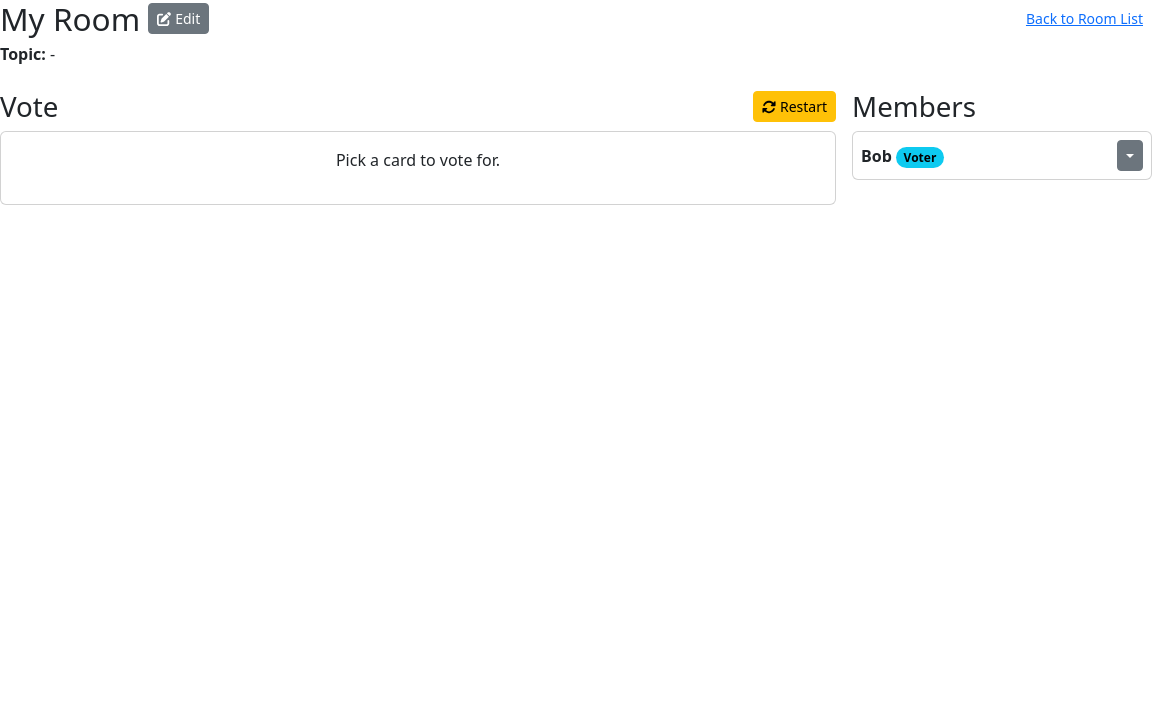
RoomView › opens edit modal
expect the text "Edit Room 'My Room'" is not shown: met
Click the button "Edit" at (179, 19), box x1=148 y1=3 x2=209 y2=34
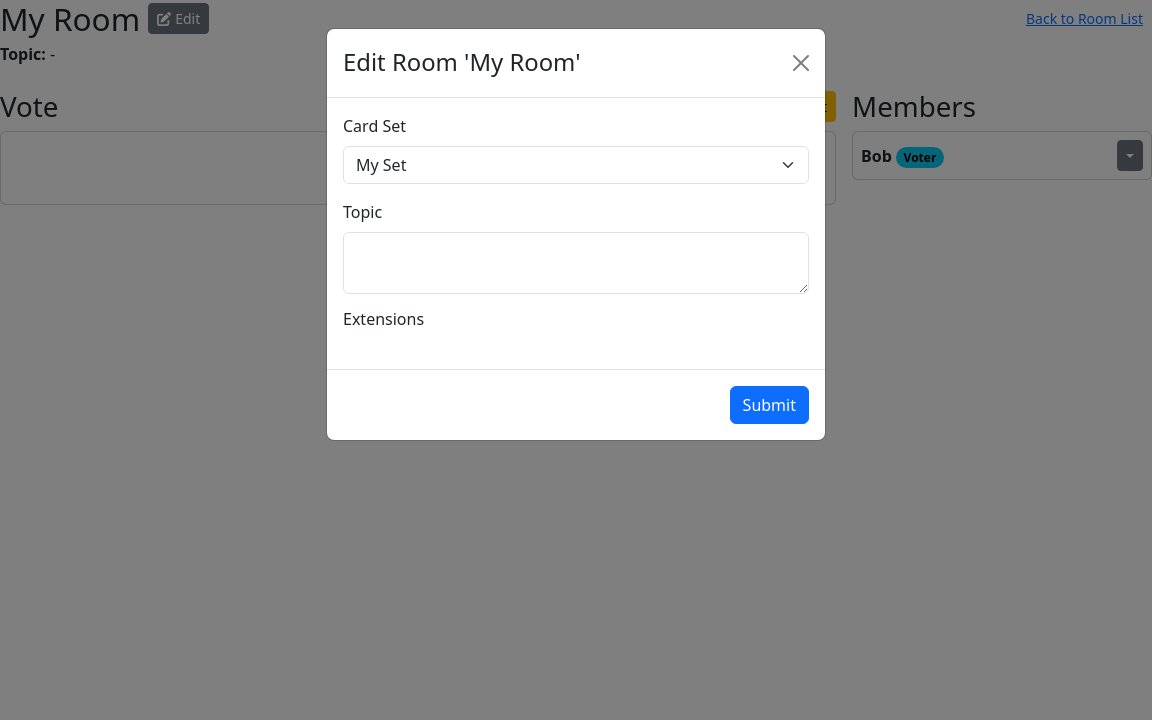
expect the text "Edit Room 'My Room'" is shown: met, box x1=343 y1=45 x2=580 y2=81
